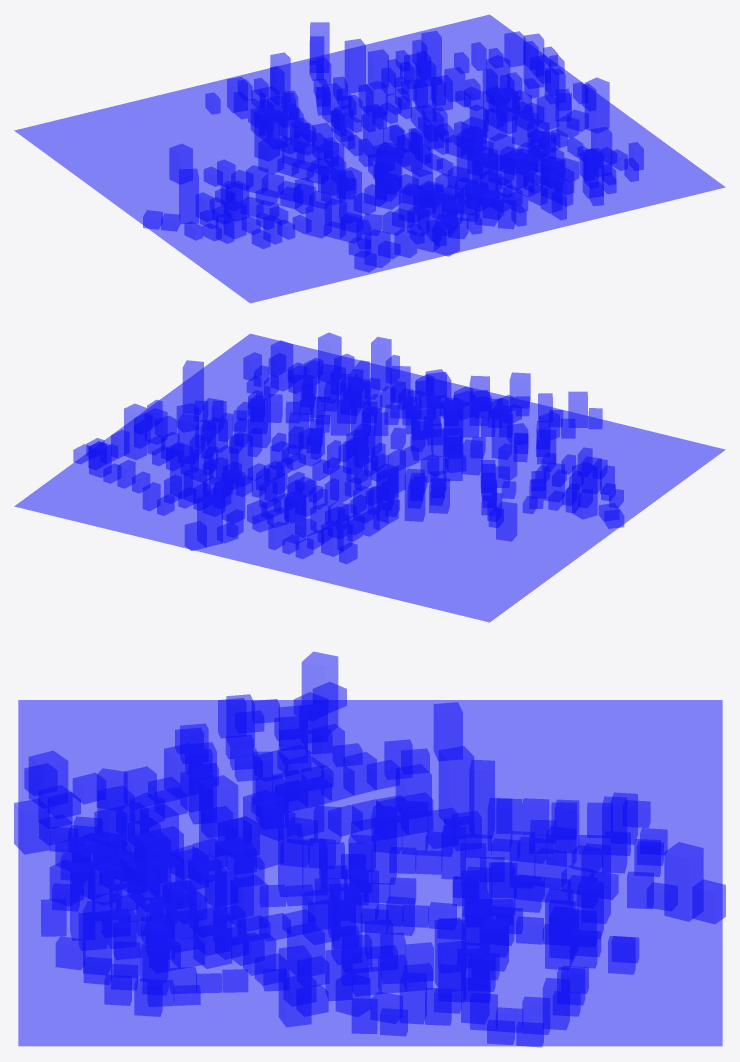
File: ExportedMap_2024-627233834.glTF
The picture shows the model from 3 angles, top to bottom: view 1: azimuth 30°, elevation 25°; view 2: azimuth 150°, elevation 25°; view 3: azimuth 270°, elevation 25°; orthographic projection. The views are drawn at different scales.
Parts seen in each view (by area): view 1: Plane, Cube (×72); view 2: Plane, Cube (×63); view 3: Cube (×188), Plane.
Boxes of the visible parts, left/top/right/bottom form: Plane: left=14, top=14, right=725, bottom=303; Cube (×72): left=169, top=22, right=612, bottom=267; Plane: left=14, top=333, right=725, bottom=622; Cube (×63): left=89, top=332, right=601, bottom=556; Cube (×188): left=14, top=651, right=725, bottom=1047; Plane: left=18, top=700, right=722, bottom=1046.
Size of the model in its own units: 767 by 72.11 by 662.
